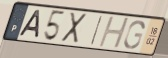5: (42, 10, 68, 42)
A: (17, 9, 42, 40)
G: (122, 20, 146, 51)
H: (96, 16, 131, 50)
I: (88, 14, 104, 47)
X: (59, 11, 88, 45)
